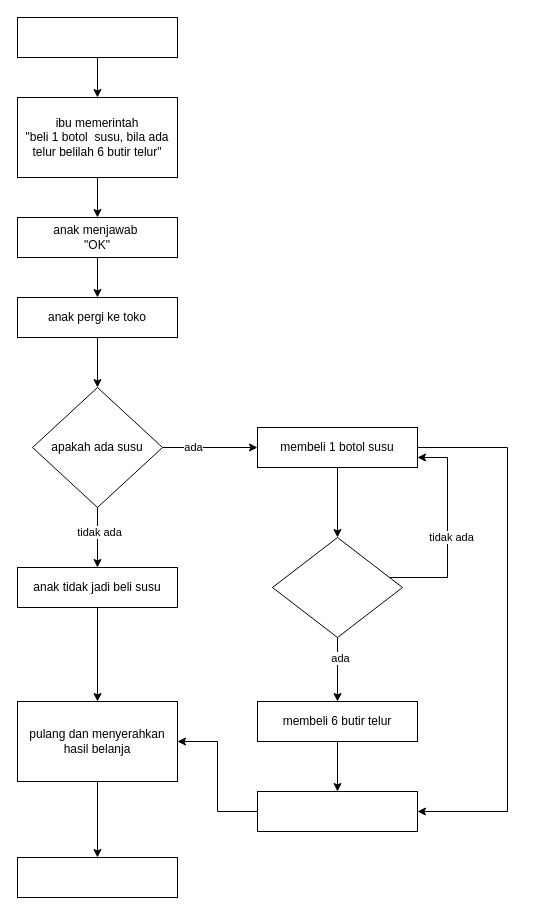
Some shapes in this 533 by 915 pixel diagram are drawn without their labels. Each missing label, with the box of its shape:
apakah ada telur: (272, 536, 402, 638)
bayar ke kasir: (256, 790, 418, 832)
mulai: (16, 16, 178, 58)
selesai: (16, 856, 178, 898)
